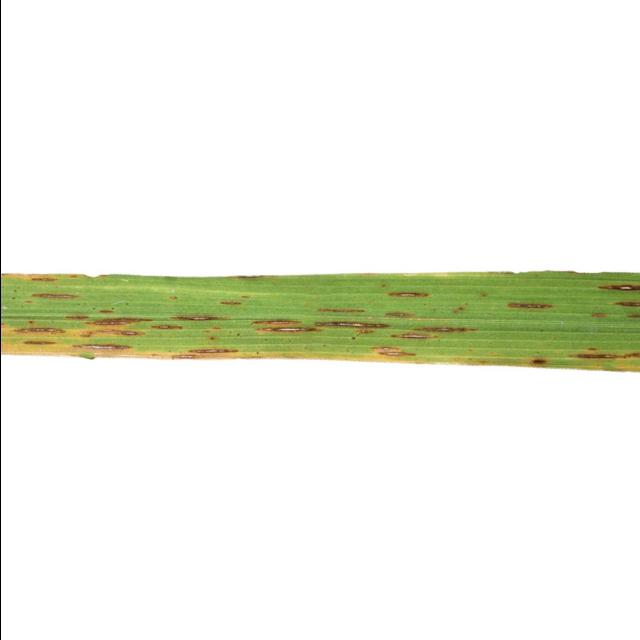Narrow brown: (0, 209, 640, 444)
